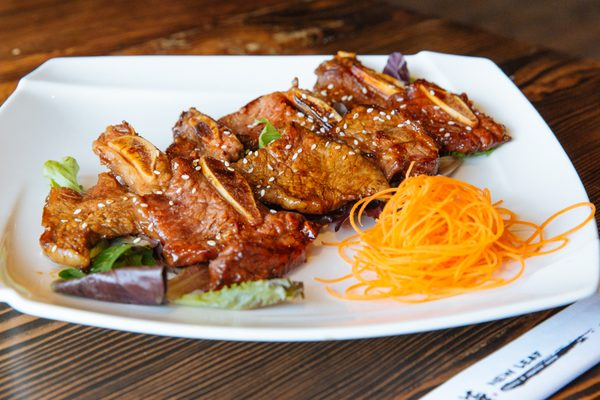curry: (16, 0, 599, 400)
